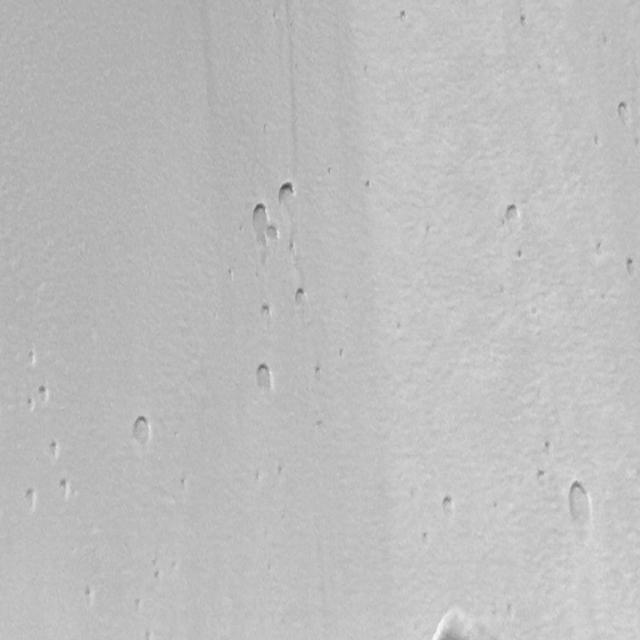pin holes: (561, 476, 597, 539), (244, 203, 272, 244), (436, 611, 472, 640), (250, 361, 278, 397), (130, 414, 155, 448), (501, 202, 523, 230), (274, 180, 296, 205), (616, 99, 635, 127), (22, 484, 40, 512), (439, 492, 458, 518), (56, 475, 73, 502), (45, 439, 63, 462), (623, 255, 640, 279), (176, 475, 193, 499), (294, 286, 310, 311), (258, 302, 276, 324), (36, 385, 53, 408), (80, 585, 97, 607), (592, 239, 609, 260), (535, 467, 552, 487), (266, 224, 282, 244), (313, 420, 328, 440), (25, 347, 39, 367), (398, 8, 412, 27), (505, 601, 518, 621), (518, 12, 532, 30), (543, 438, 556, 457), (24, 396, 37, 414), (590, 132, 604, 148), (362, 179, 376, 195), (152, 569, 166, 585), (514, 246, 528, 262), (418, 532, 431, 548), (312, 364, 324, 381), (275, 462, 286, 480), (223, 263, 234, 281), (254, 470, 265, 487), (396, 319, 406, 337), (132, 597, 143, 613), (337, 345, 348, 360), (288, 239, 297, 255), (631, 135, 639, 152), (142, 628, 154, 639), (326, 166, 336, 178)
